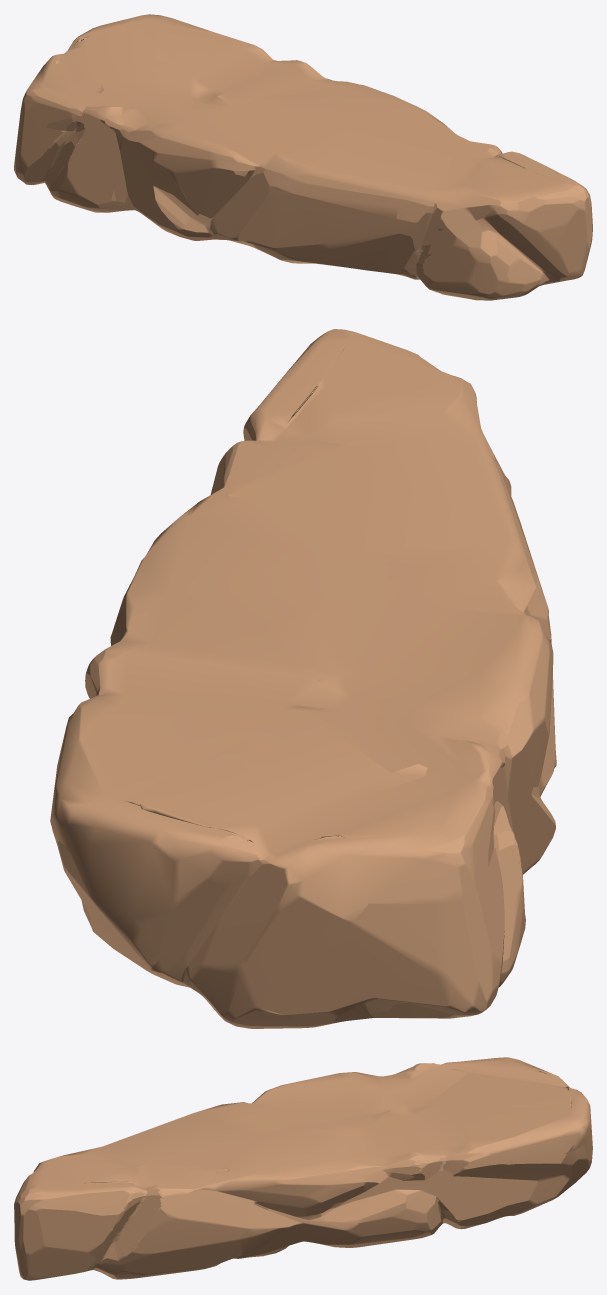
3 views of the same model, one above another, from view 1: azimuth 30°, elevation 25°; view 2: azimuth 150°, elevation 25°; view 3: azimuth 270°, elevation 25° (orthographic). The views are drawn at different scales.
Parts seen in each view (by area): view 1: Mesh_79_LOD0; view 2: Mesh_79_LOD0; view 3: Mesh_79_LOD0.
Part boxes in pixels (<box>): Mesh_79_LOD0: <box>14,14,592,300</box>; Mesh_79_LOD0: <box>50,329,556,1028</box>; Mesh_79_LOD0: <box>14,1057,592,1280</box>.
Size of what is drawn, in the model's own units: 1971 by 629 by 3033.
